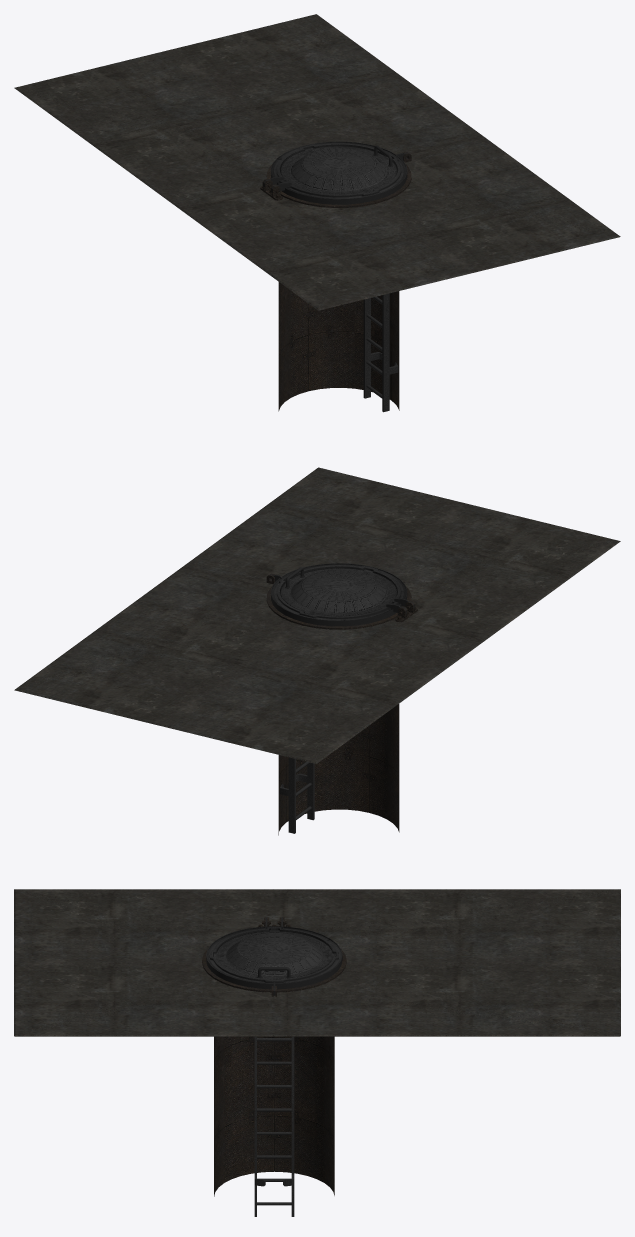
The model's file is floor_manhole_shaft_end_1.glb.
3 views of the same model, one above another, from view 1: azimuth 30°, elevation 25°; view 2: azimuth 150°, elevation 25°; view 3: azimuth 270°, elevation 25° (orthographic).
Parts seen in each view (by area): view 1: floor_manhole_shaft_end_1, manhole_cover_1, shaft_end_ladder; view 2: floor_manhole_shaft_end_1, manhole_cover_1, shaft_end_ladder; view 3: floor_manhole_shaft_end_1, manhole_cover_1, shaft_end_ladder.
Part boxes in pixels (box(x1,y1,x2,y2)): floor_manhole_shaft_end_1: box(14, 14, 620, 411); manhole_cover_1: box(263, 141, 408, 204); shaft_end_ladder: box(363, 293, 398, 412); floor_manhole_shaft_end_1: box(14, 467, 620, 835); manhole_cover_1: box(269, 563, 414, 626); shaft_end_ladder: box(280, 757, 314, 833); floor_manhole_shaft_end_1: box(14, 889, 620, 1196); manhole_cover_1: box(206, 917, 342, 995); shaft_end_ladder: box(254, 1036, 294, 1216).
Size of the model in its own units: 4.04 by 3.22 by 7.04.
4 materials, 4 textured.
